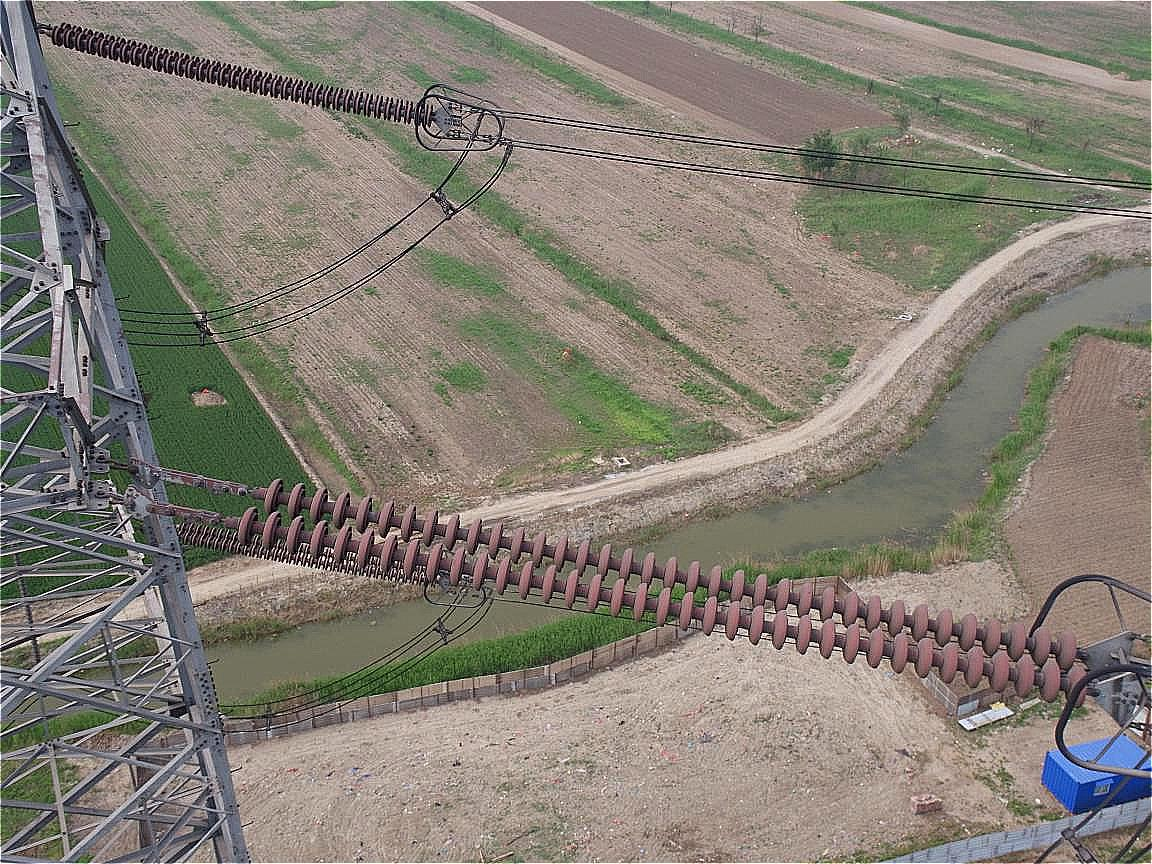insultor1: (240, 476, 1088, 705)
insultor2: (51, 19, 433, 128)
